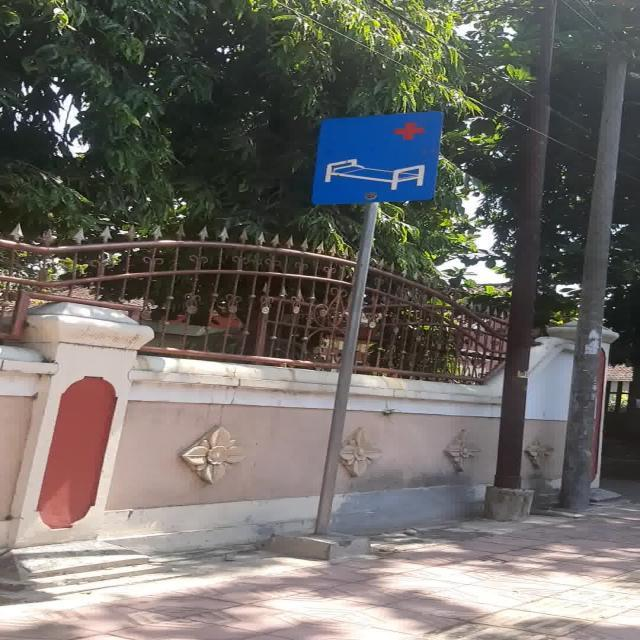Rumah Sakit: (312, 111, 442, 204)
